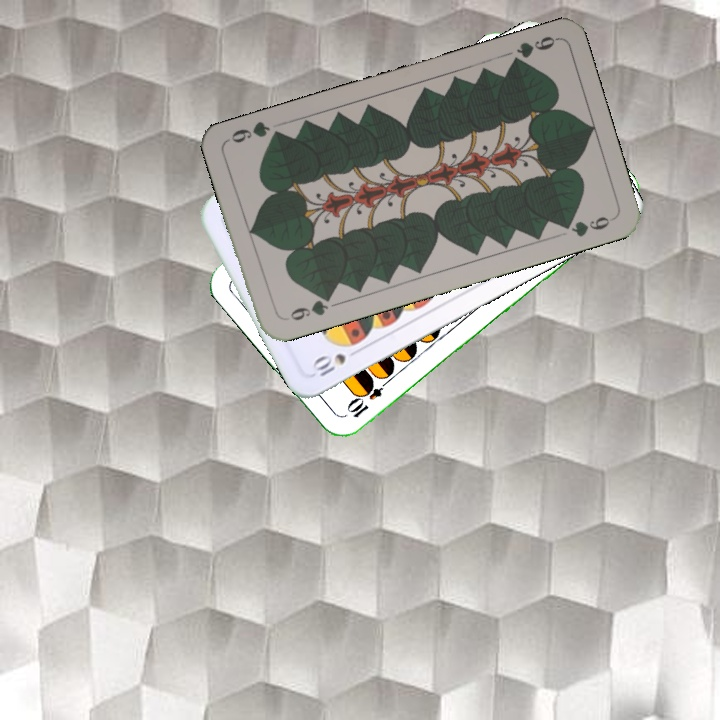E10: (342, 371, 393, 421)
G9: (506, 32, 560, 69), (280, 290, 335, 324)
S10: (307, 338, 364, 380)
